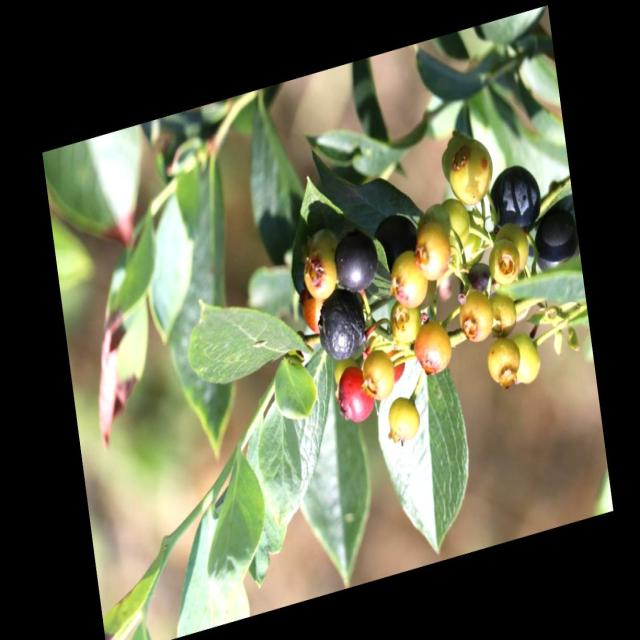blueberry: (482, 156, 545, 246), (529, 202, 582, 283), (314, 289, 369, 365), (330, 224, 381, 298), (368, 204, 422, 272), (453, 255, 499, 308)
blueberry-halfripe: (332, 355, 377, 427)
blueberry-unripe: (447, 137, 495, 212), (410, 316, 456, 379), (356, 343, 399, 408), (454, 284, 497, 349), (409, 225, 451, 284), (390, 250, 428, 312), (384, 388, 424, 446), (385, 294, 423, 351), (494, 217, 530, 276), (508, 329, 542, 389), (302, 246, 339, 300), (438, 196, 473, 252), (490, 336, 523, 391), (487, 286, 518, 344), (490, 240, 522, 287)
